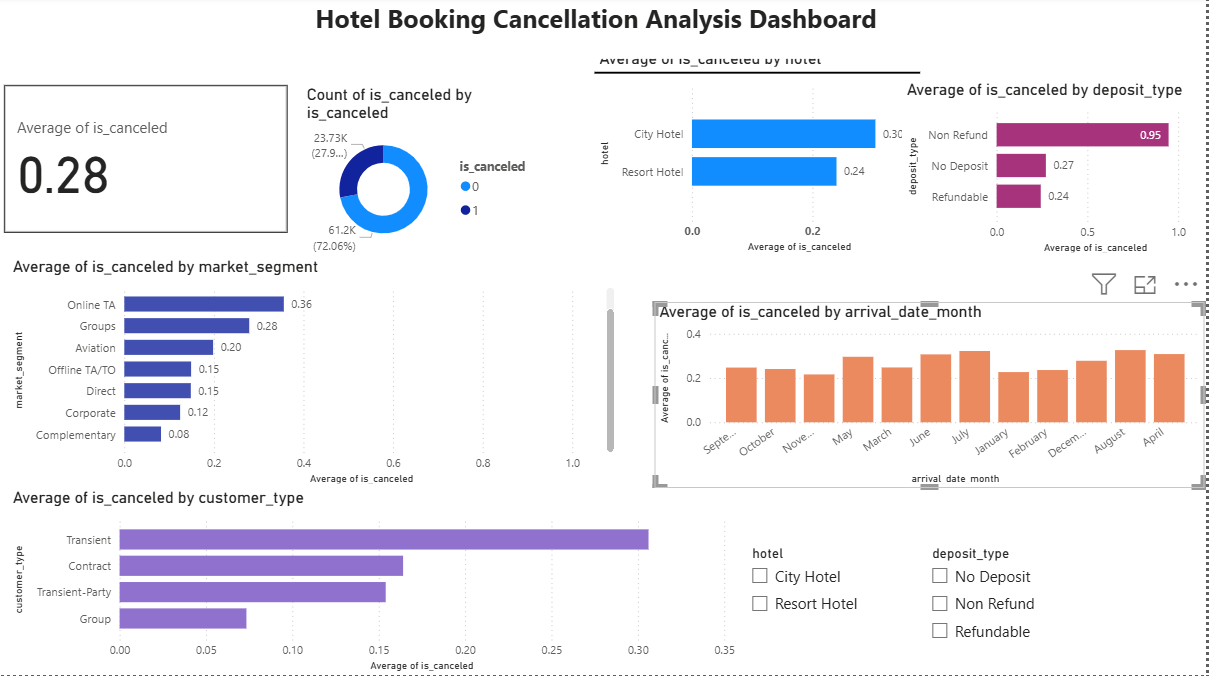

The dashboard page shown, as its layout file describes it:
{"tool":"powerbi","page":{"name":"Page 1","canvas":[1280,720],"ordinal":0},"visuals":[{"type":"cardVisual","fields":{"Data":["Avg(hotel_bookings_cleaned.is_canceled)"]},"box":[9.5,89.1,311.8,167],"z":0},{"type":"clusteredBarChart","fields":{"Category":["hotel_bookings_cleaned.hotel"],"Y":["Avg(hotel_bookings_cleaned.is_canceled)"]},"box":[612.4,66.8,345.2,221.1],"z":1000},{"type":"clusteredBarChart","fields":{"Category":["hotel_bookings_cleaned.deposit_type"],"Y":["Avg(hotel_bookings_cleaned.is_canceled)"]},"box":[957.5,89.1,322.9,187.7],"z":2000},{"type":"clusteredBarChart","fields":{"Category":["hotel_bookings_cleaned.market_segment"],"Y":["Avg(hotel_bookings_cleaned.is_canceled)"]},"box":[9.5,276.8,776.2,198.8],"z":3000},{"type":"clusteredColumnChart","fields":{"Category":["hotel_bookings_cleaned.arrival_date_month"],"Y":["Avg(hotel_bookings_cleaned.is_canceled)"]},"box":[785.8,324.5,493.1,197.2],"z":4000},{"type":"donutChart","fields":{"Category":["hotel_bookings_cleaned.is_canceled"],"Y":["CountNonNull(hotel_bookings_cleaned.is_canceled)"]},"box":[321.3,93.8,256.1,182.9],"z":5000},{"type":"clusteredBarChart","fields":{"Y":["Avg(hotel_bookings_cleaned.is_canceled)"],"Category":["hotel_bookings_cleaned.customer_type"]},"box":[9.5,521.7,776.2,198.8],"z":6000},{"type":"slicer","fields":{"Values":["hotel_bookings_cleaned.hotel"]},"box":[785.8,577.4,190.9,119.3],"z":7000},{"type":"slicer","fields":{"Values":["hotel_bookings_cleaned.deposit_type"]},"box":[976.6,577.4,240.2,119.3],"z":8000},{"type":"textbox","box":[254.5,0,757.1,66.8],"z":9000}]}

Visuals, with their boxes in screenshot pixels (x1, y1, x2, y2), scaled from the page's 1280x720 canvas onto the 1209x676 screenshot:
cardVisual - Avg(hotel_bookings_cleaned.is_canceled): {"x1": 9, "y1": 84, "x2": 303, "y2": 240}
clusteredBarChart - hotel_bookings_cleaned.hotel x Avg(hotel_bookings_cleaned.is_canceled): {"x1": 578, "y1": 63, "x2": 904, "y2": 270}
clusteredBarChart - hotel_bookings_cleaned.deposit_type x Avg(hotel_bookings_cleaned.is_canceled): {"x1": 904, "y1": 84, "x2": 1208, "y2": 260}
clusteredBarChart - hotel_bookings_cleaned.market_segment x Avg(hotel_bookings_cleaned.is_canceled): {"x1": 9, "y1": 260, "x2": 742, "y2": 447}
clusteredColumnChart - hotel_bookings_cleaned.arrival_date_month x Avg(hotel_bookings_cleaned.is_canceled): {"x1": 742, "y1": 305, "x2": 1208, "y2": 490}
donutChart - hotel_bookings_cleaned.is_canceled x CountNonNull(hotel_bookings_cleaned.is_canceled): {"x1": 303, "y1": 88, "x2": 545, "y2": 260}
clusteredBarChart - Avg(hotel_bookings_cleaned.is_canceled) x hotel_bookings_cleaned.customer_type: {"x1": 9, "y1": 490, "x2": 742, "y2": 675}
slicer - hotel_bookings_cleaned.hotel: {"x1": 742, "y1": 542, "x2": 923, "y2": 654}
slicer - hotel_bookings_cleaned.deposit_type: {"x1": 922, "y1": 542, "x2": 1149, "y2": 654}
textbox: {"x1": 240, "y1": 0, "x2": 955, "y2": 63}
